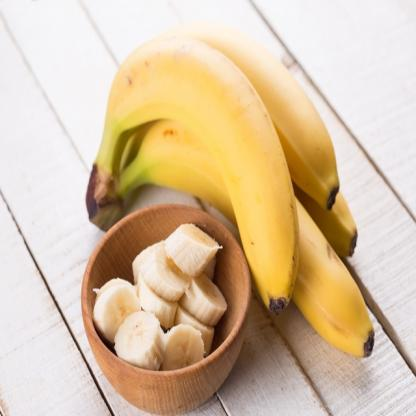banana: (123, 110, 381, 361), (93, 35, 306, 329), (132, 29, 335, 219)
